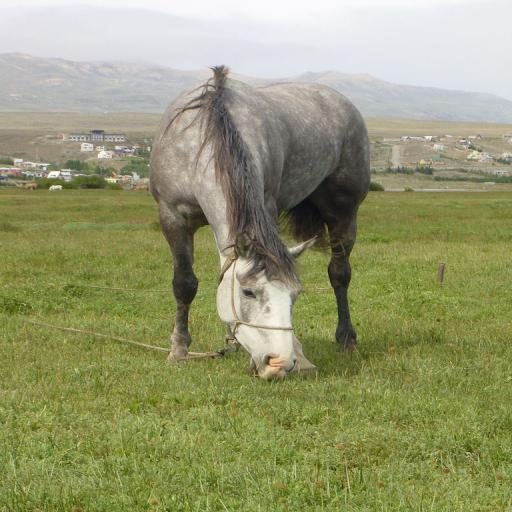horse: (144, 62, 372, 381)
